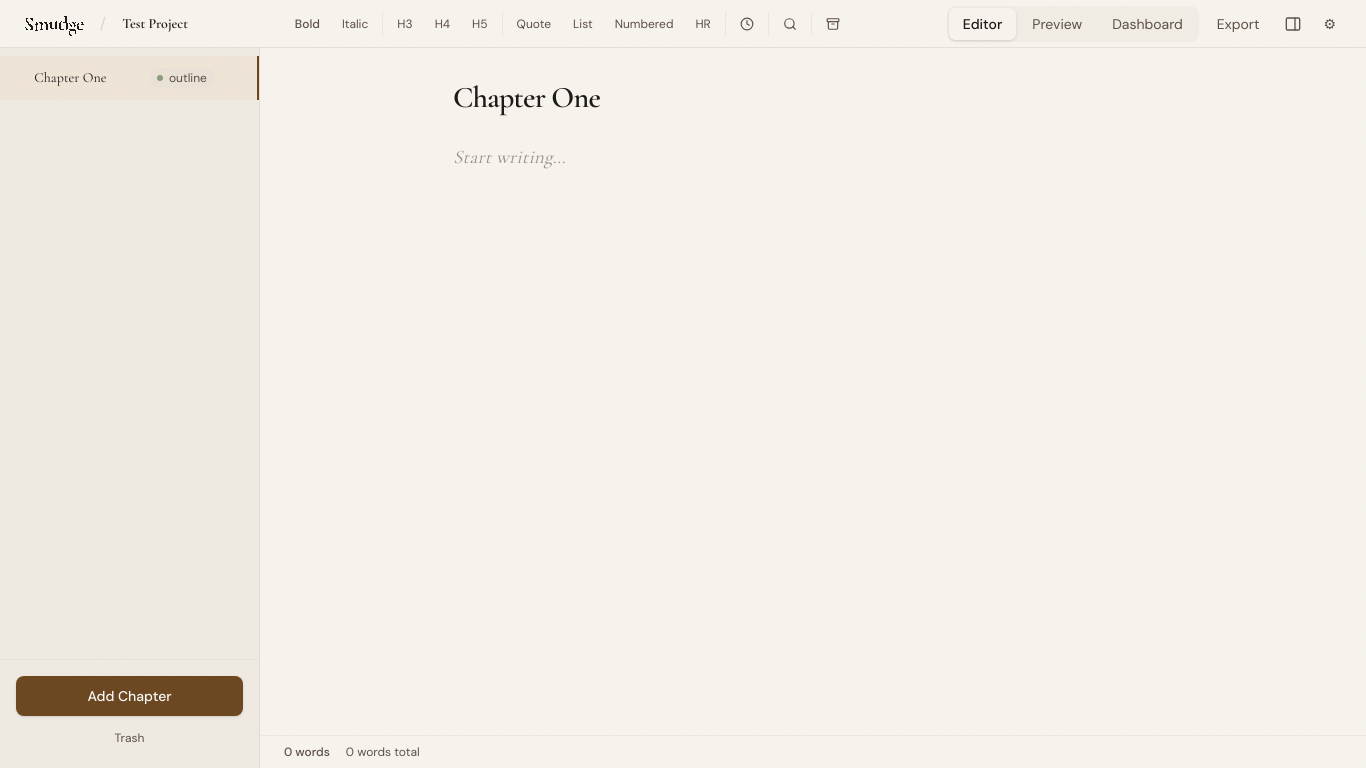
Test: Keyboard shortcut help dialog › closes help dialog when clicking the backdrop
The image size is (1366, 768).
Expected: the heading "Chapter One" is shown, [453, 79, 600, 116]
Press /
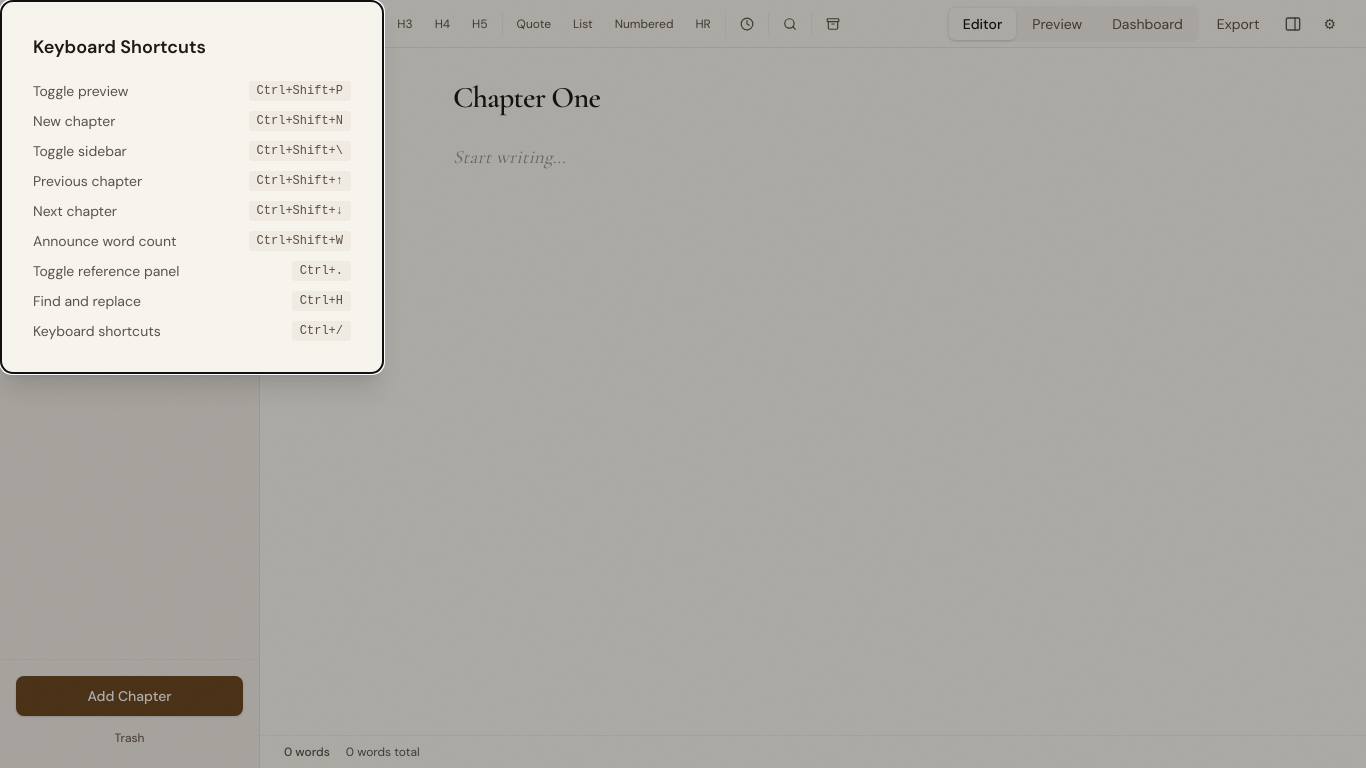
Expected: the dialog "Keyboard Shortcuts" is shown
// Click the dialog backdrop (the dialog element itself, not its inner content)
Click the dialog "Keyboard Shortcuts" at {"x": 192, "y": 187}, box [0, 0, 384, 374]
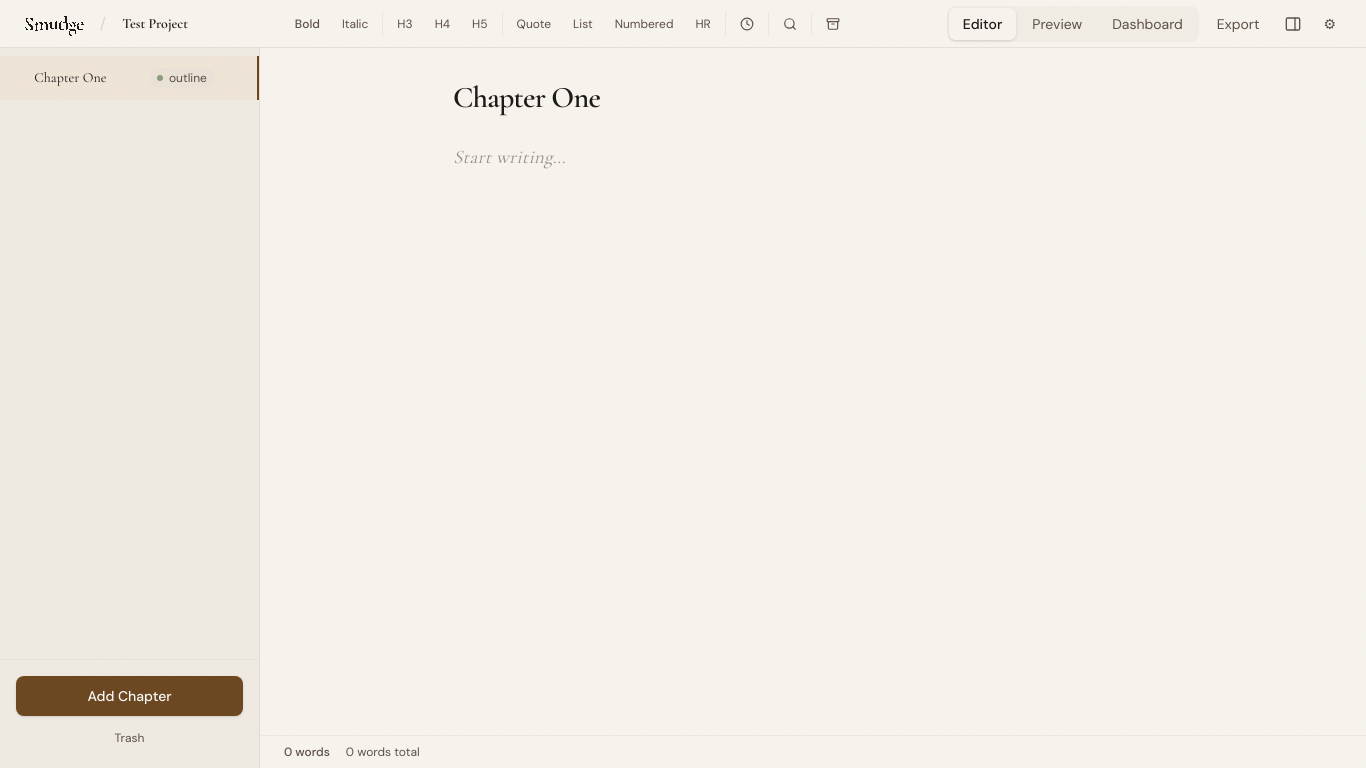
Expected: the heading "Keyboard Shortcuts" is gone
